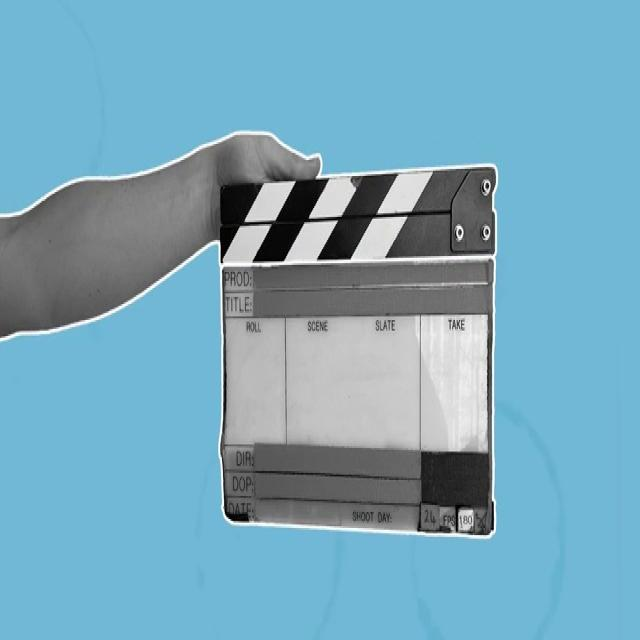Clapperboard: (218, 164, 496, 543)
